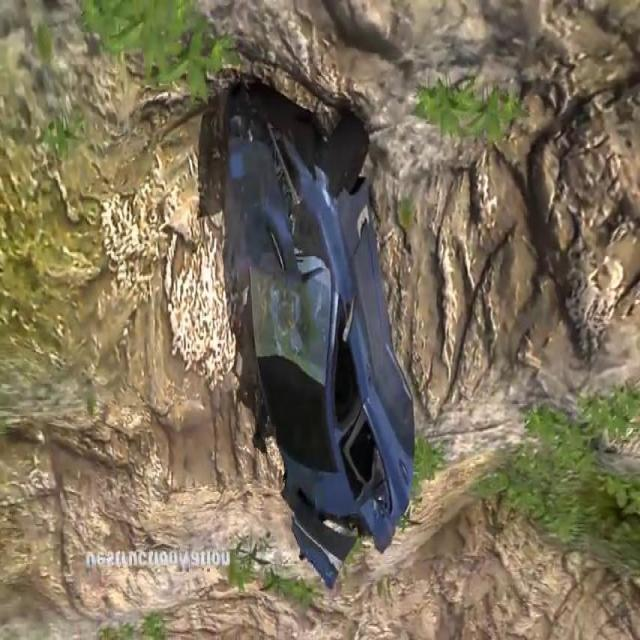severe: (192, 72, 420, 592)
